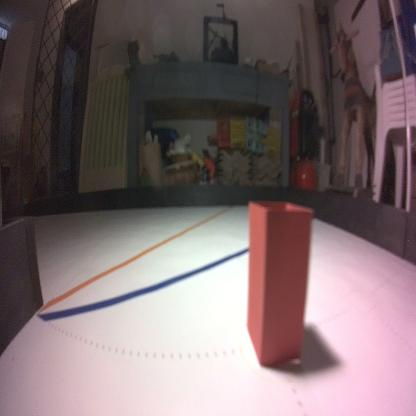red: (242, 199, 317, 373)
